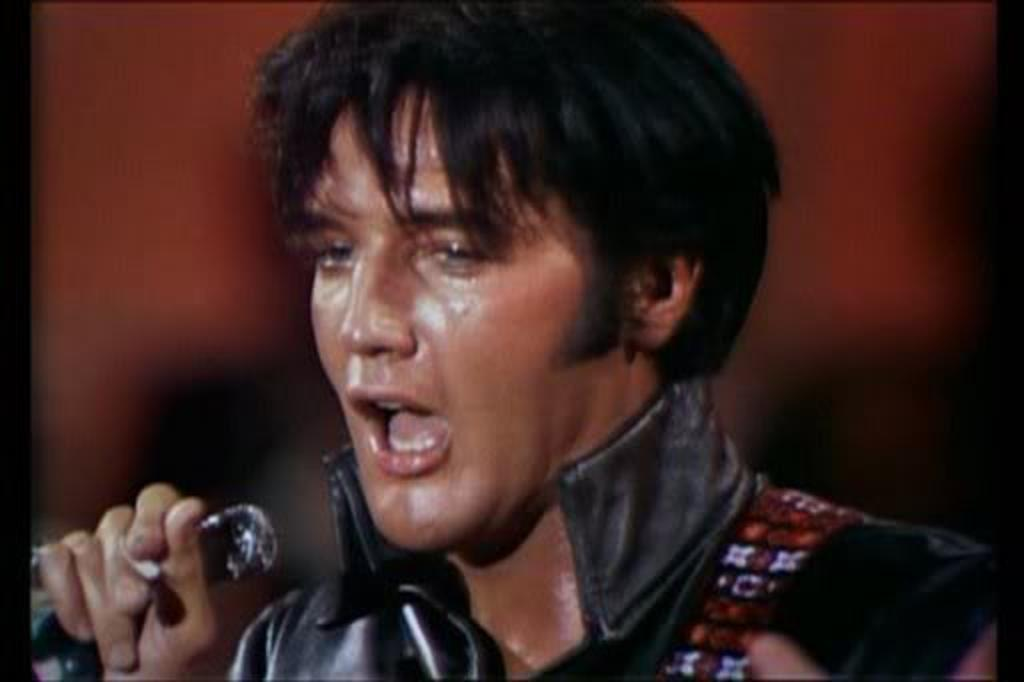face: (312, 80, 628, 546)
